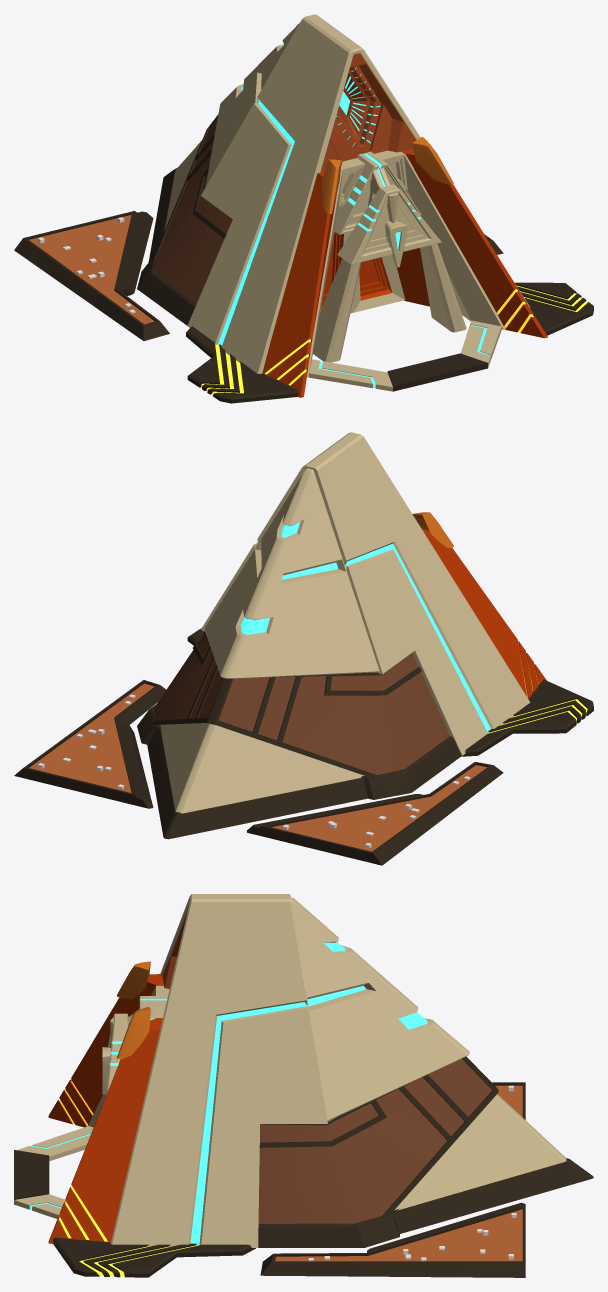
The model's file is SM_temple.fbx.
3 views of the same model, one above another, from view 1: azimuth 30°, elevation 25°; view 2: azimuth 150°, elevation 25°; view 3: azimuth 270°, elevation 25° (orthographic). The views are drawn at different scales.
Visible parts, largest first — view 1: SM_temple; view 2: SM_temple; view 3: SM_temple.
Part boxes in pixels (x1,y1,x2,y2): SM_temple: [14, 14, 593, 403]; SM_temple: [14, 432, 593, 865]; SM_temple: [14, 894, 593, 1277].
Size of the model in its own units: 1095 by 751 by 1377.
